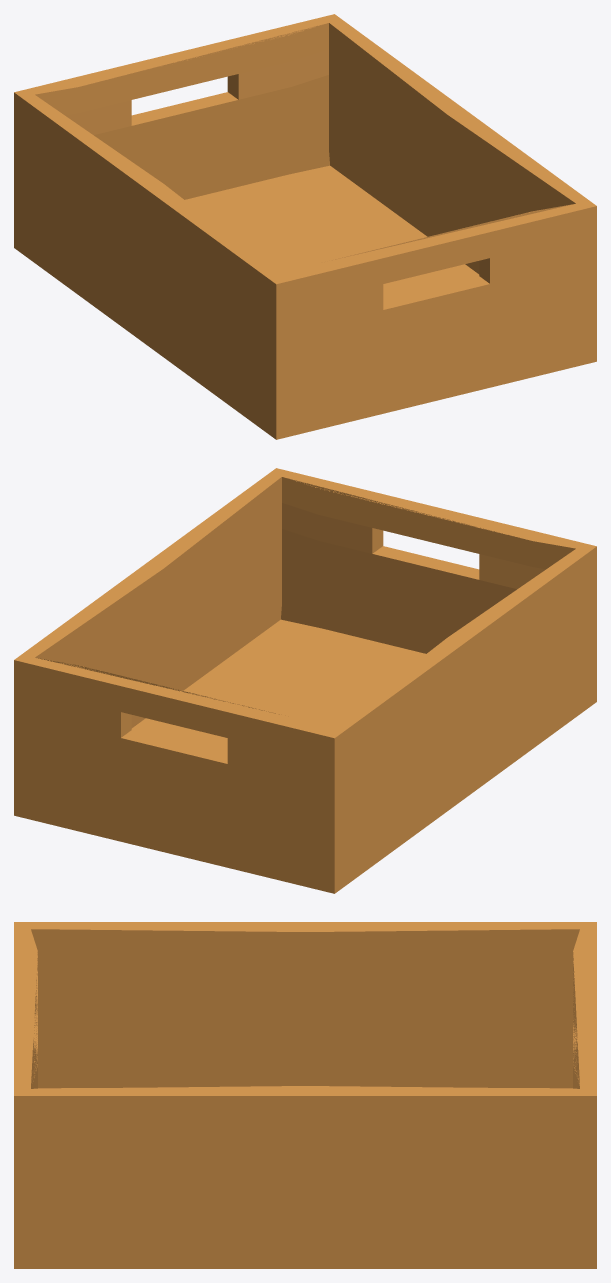
The model's file is basket.fbx.
3 views of the same model, one above another, from view 1: azimuth 30°, elevation 25°; view 2: azimuth 150°, elevation 25°; view 3: azimuth 270°, elevation 25° (orthographic). The views are drawn at different scales.
Visible parts, largest first — view 1: basket; view 2: basket; view 3: basket.
Boxes of the visible parts, bbox=[...] form: basket: bbox=[14, 14, 596, 439]; basket: bbox=[14, 468, 596, 893]; basket: bbox=[14, 922, 596, 1268].
Size of the model in its own units: 86.27 by 40 by 122.
